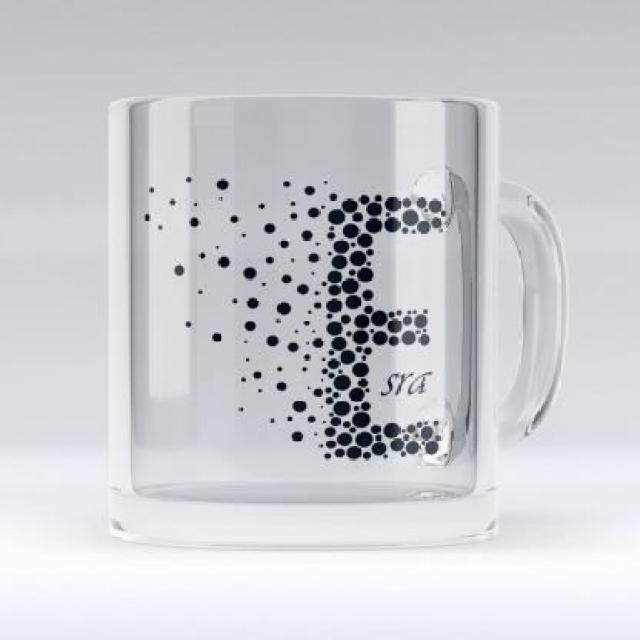taza: (107, 93, 571, 555)
